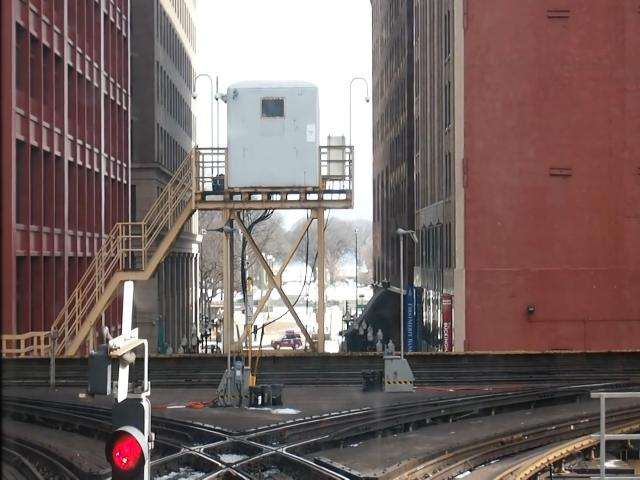signal light: (105, 399, 156, 480)
